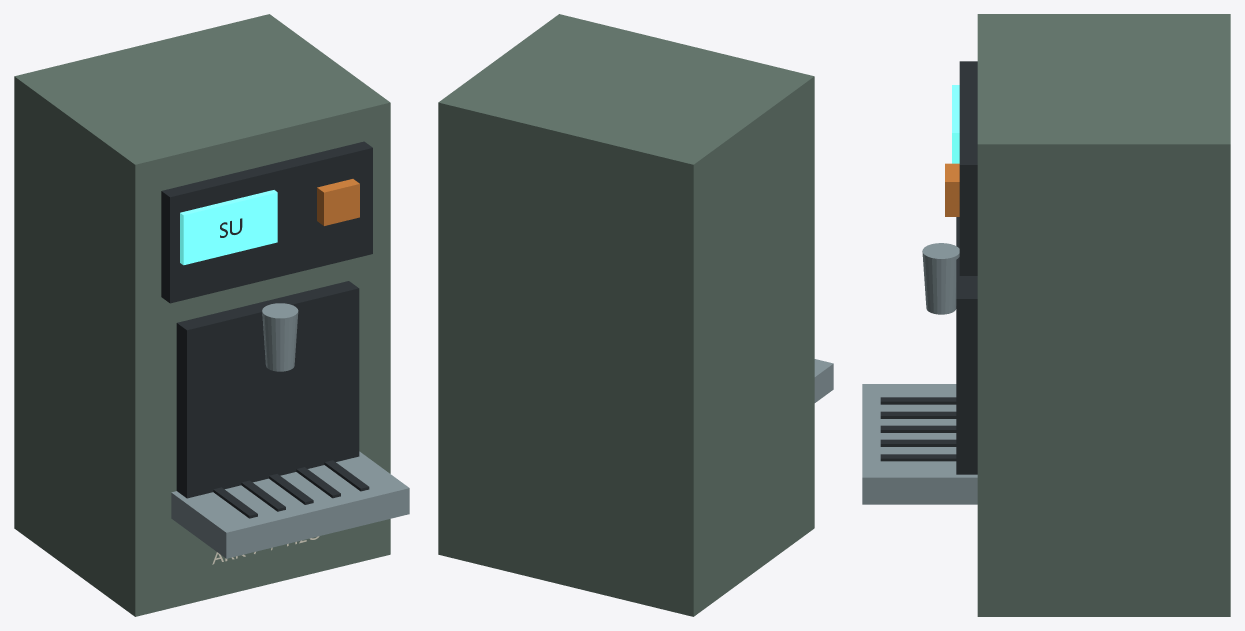
File: IcecekMakinesi.glb
3 views of the same model, side by side, from view 1: azimuth 30°, elevation 25°; view 2: azimuth 150°, elevation 25°; view 3: azimuth 270°, elevation 25° (orthographic). The views are drawn at different scales.
Parts seen in each view (by area): view 1: Makine_Kasa, Makine_KupaYuvası, Makine_OnPanel, Makine_Damlalik, Makine_Ekran, Makine_Musluk, Makine_Dugme; view 2: Makine_Kasa, Makine_Damlalik; view 3: Makine_Kasa, Makine_Damlalik, Makine_KupaYuvası, Makine_OnPanel, Makine_Musluk, Makine_Dugme, Makine_Ekran, Damlalik_Yiv, Damlalik_Yiv.001, Damlalik_Yiv.002, Damlalik_Yiv.003, Damlalik_Yiv.004.
Boxes of the visible parts, left/top/right/bottom form: Makine_Kasa: left=14, top=14, right=390, bottom=616; Makine_KupaYuvası: left=176, top=281, right=359, bottom=498; Makine_OnPanel: left=161, top=141, right=372, bottom=303; Makine_Damlalik: left=171, top=451, right=409, bottom=558; Makine_Ekran: left=180, top=190, right=277, bottom=265; Makine_Musluk: left=262, top=303, right=298, bottom=371; Makine_Dugme: left=317, top=179, right=359, bottom=225; Makine_Kasa: left=438, top=14, right=814, bottom=616; Makine_Damlalik: left=814, top=359, right=833, bottom=402; Makine_Kasa: left=977, top=14, right=1230, bottom=616; Makine_Damlalik: left=862, top=384, right=977, bottom=504; Makine_KupaYuvası: left=956, top=217, right=977, bottom=474; Makine_OnPanel: left=959, top=61, right=977, bottom=275; Makine_Musluk: left=922, top=243, right=959, bottom=314; Makine_Dugme: left=945, top=163, right=959, bottom=216; Makine_Ekran: left=952, top=85, right=959, bottom=163; Damlalik_Yiv: left=880, top=397, right=956, bottom=404; Damlalik_Yiv.001: left=880, top=411, right=956, bottom=418; Damlalik_Yiv.002: left=880, top=425, right=956, bottom=432; Damlalik_Yiv.003: left=880, top=439, right=956, bottom=446; Damlalik_Yiv.004: left=880, top=454, right=956, bottom=461.
Size of the model in its own units: 0.39 by 0.66 by 0.466.
